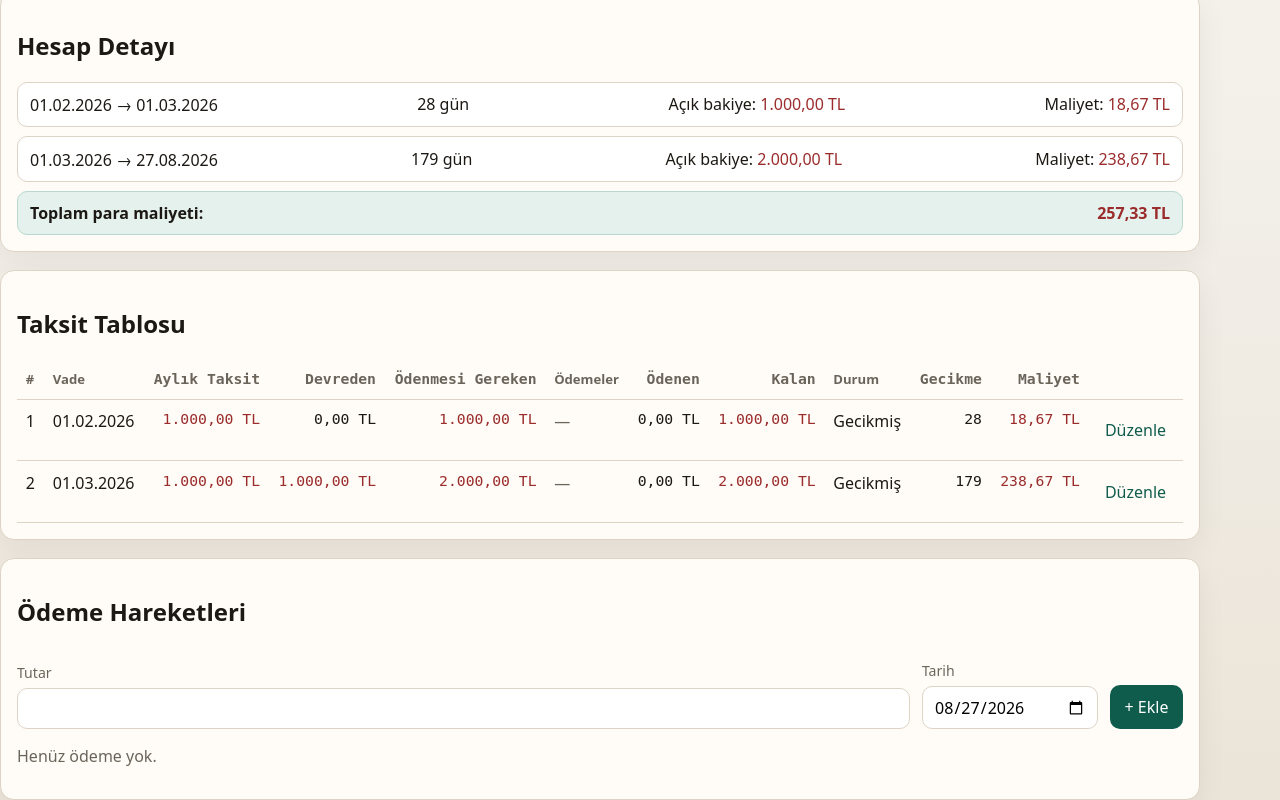
Test: SalePage payment add flow › rejects invalid amount and keeps form values
(page scrolled)
Type "0" into the field labelled "Tutar". click: (463, 709)
box: [17,688,910,729]
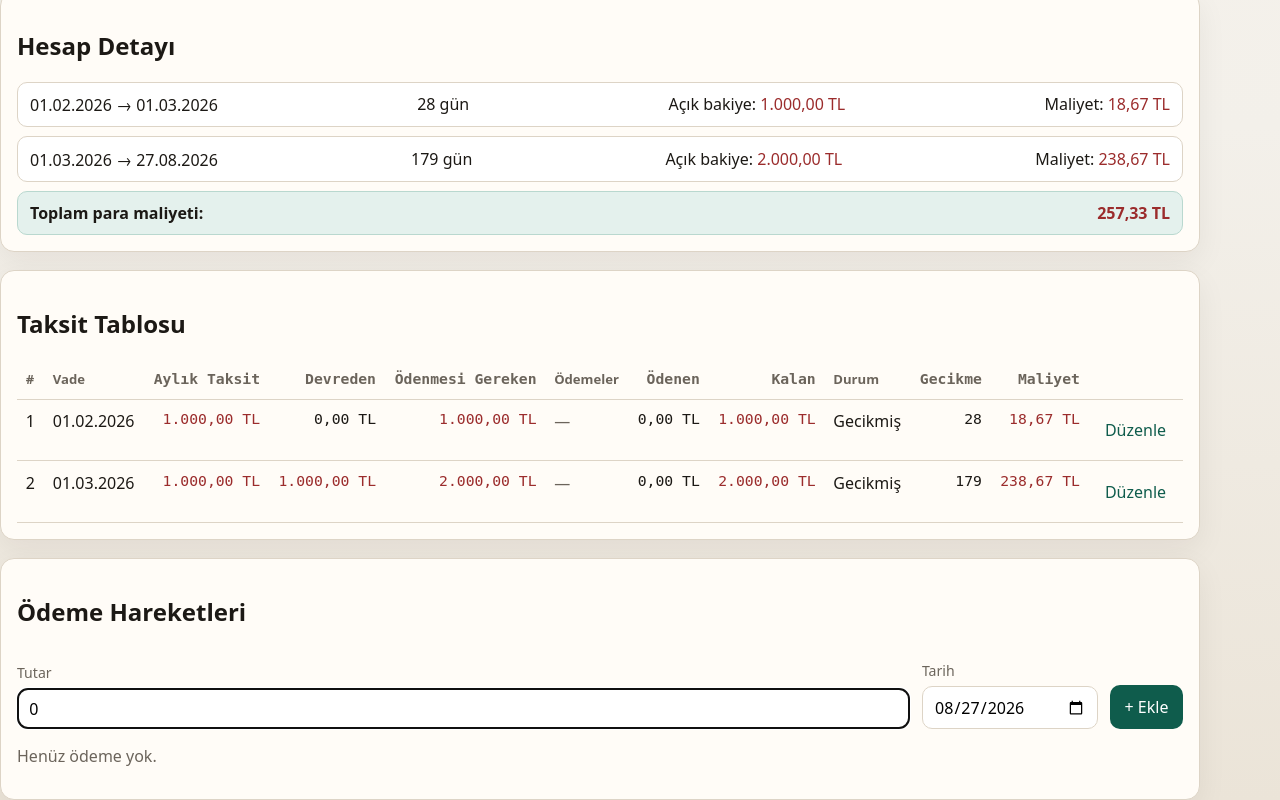
Click the button "+ Ekle". click: (1146, 707)
box: [1110,685,1183,729]
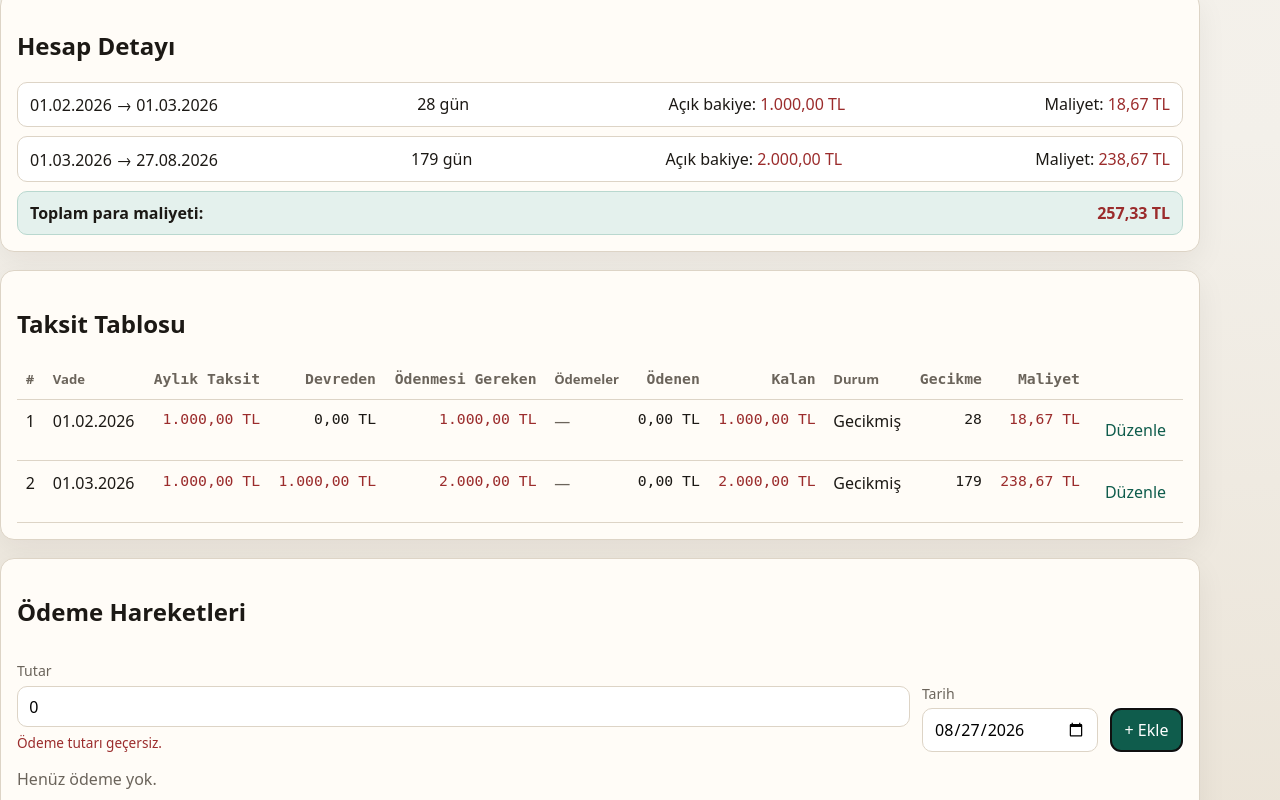
Expected: the date field labelled "Tarih" holds "2026-08-27", [922,708,1098,752]
Now the text "Ödeme tutarı geçersiz." is shown, box [17,733,162,752]
